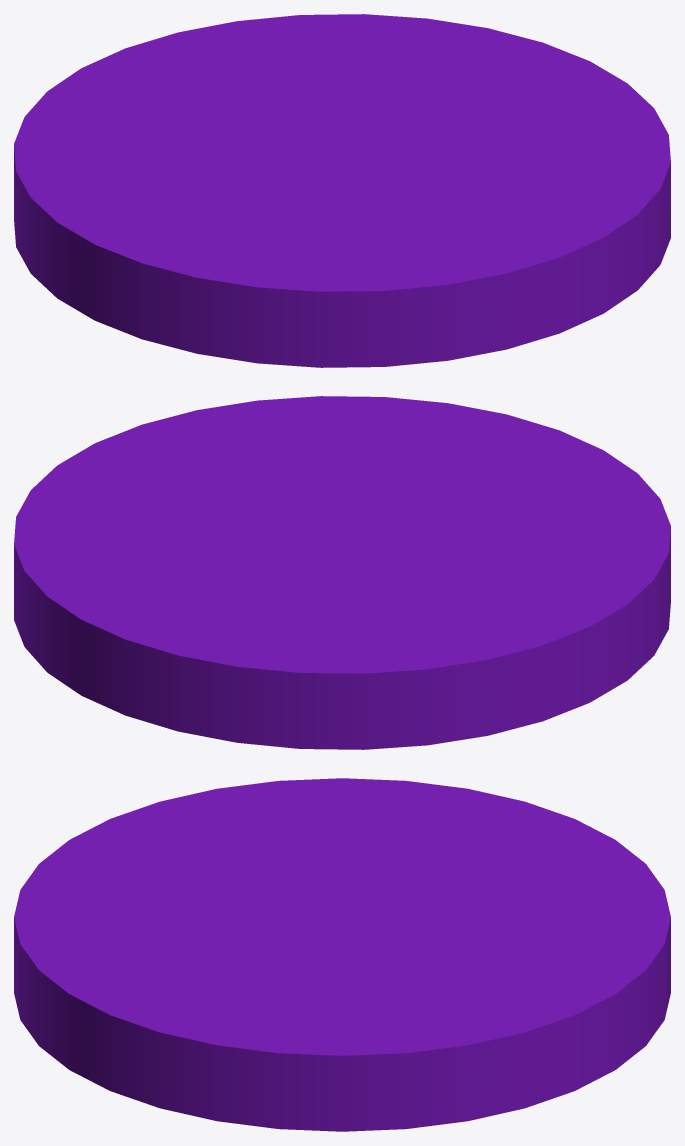
Rendered from Coin.obj.
The picture shows the model from 3 angles, top to bottom: view 1: azimuth 30°, elevation 25°; view 2: azimuth 150°, elevation 25°; view 3: azimuth 270°, elevation 25°; orthographic projection.
Visible parts, largest first — view 1: 円柱; view 2: 円柱; view 3: 円柱.
Part boxes in pixels (box(x1,y1,x2,y2)): 円柱: box(14, 14, 670, 367); 円柱: box(14, 396, 670, 749); 円柱: box(14, 778, 670, 1131).
Bounding box in the file's own units: 2 × 0.2549 × 2.
1 material, 1 textured.
